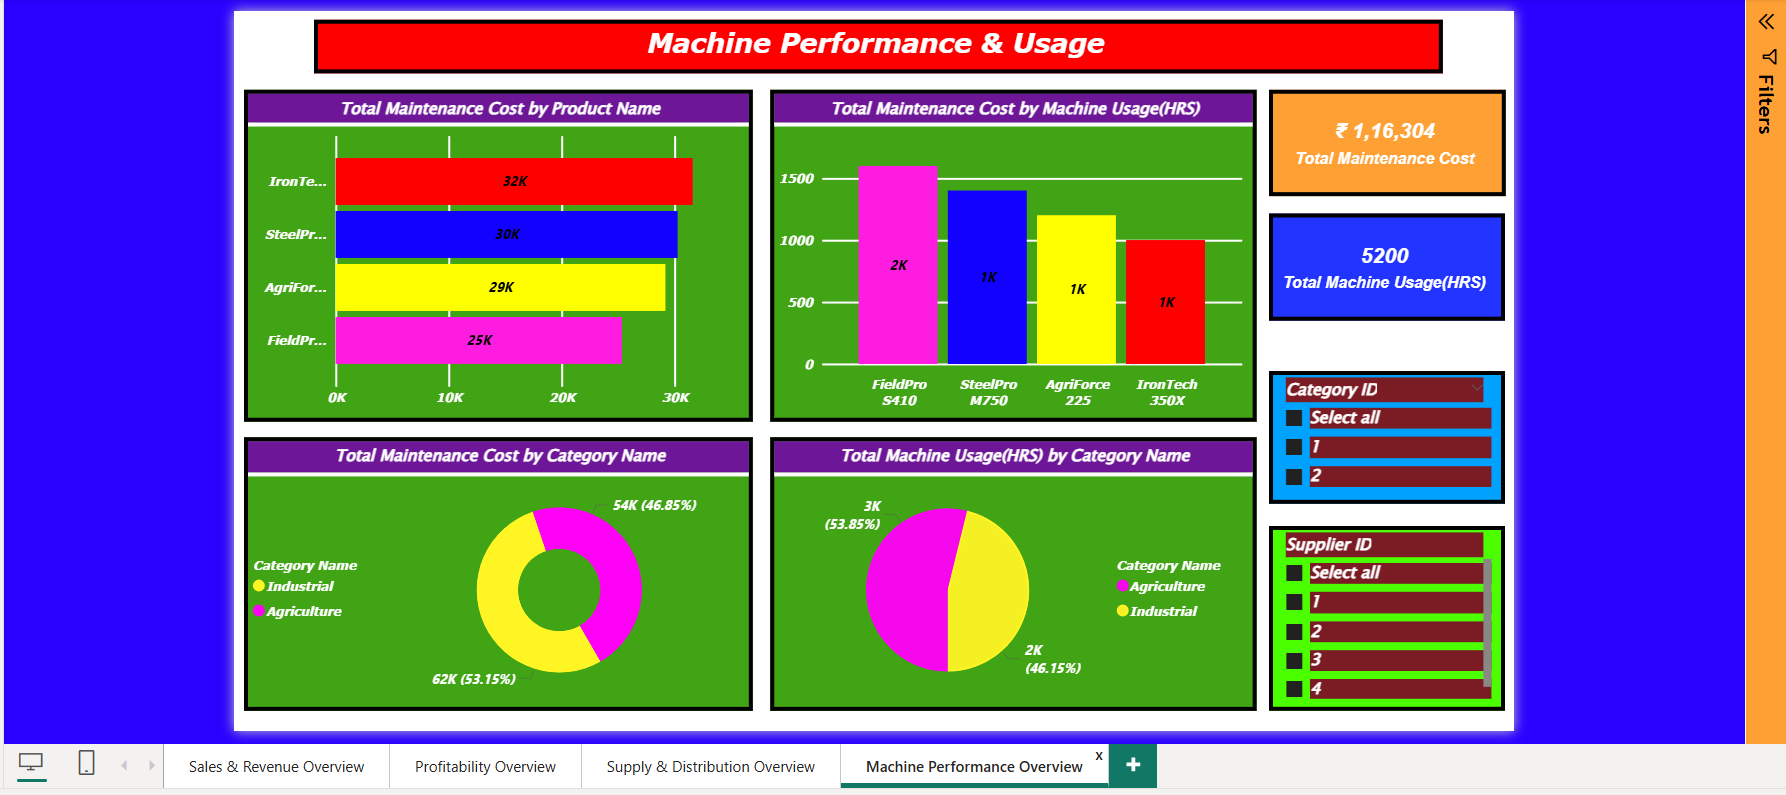

What the dashboard file says about the page in this screenshot:
{"tool":"powerbi","page":{"name":"Machine Performance Overview","canvas":[1280,720],"ordinal":3},"visuals":[{"type":"pieChart","title":"Total Machine Usage(HRS) by Category Name","fields":{"Category":["Category_Metrics.Category Name"],"Y":["Sum(Zone_Overview.Machine Usage(HRS))"]},"box":[536.9,425.9,486.2,273.9],"z":0},{"type":"clusteredColumnChart","title":"Total Maintenance Cost by Machine Usage(HRS)","fields":{"Category":["Inventory_Details.Product Name"],"Y":["Sum(Zone_Overview.Machine Usage(HRS))"]},"box":[536.9,78.4,486.2,331.8],"z":1000},{"type":"card","fields":{"Values":["Sum(Zone_Overview.Machine Usage(HRS))"]},"box":[1035,202.5,236.2,107.5],"z":2000},{"type":"card","fields":{"Values":["Sum(Zone_Overview.Maintenance Cost)"]},"box":[1035.1,78.4,236.5,106.2],"z":3000},{"type":"textbox","box":[80,8.8,1128.8,53.8],"z":6000},{"type":"slicer","fields":{"Values":["Category_Metrics.Category ID"]},"box":[1035,360,236.2,132.5],"z":7000},{"type":"slicer","fields":{"Values":["Suppliers_Profile.Supplier ID"]},"box":[1035,515,236.2,185],"z":8000},{"type":"donutChart","title":"Total Maintenance Cost by Category Name","fields":{"Category":["Category_Metrics.Category Name"],"Y":["Sum(Zone_Overview.Maintenance Cost)"]},"box":[9.7,425.9,509.1,273.9],"z":9000},{"type":"clusteredBarChart","title":"Total Maintenance Cost by Product Name","fields":{"Category":["Inventory_Details.Product Name"],"Y":["Sum(Zone_Overview.Maintenance Cost)"]},"box":[9.7,78.4,509.1,331.8],"z":10000}]}

Visuals, with their boxes on the page's 1280x720 design canvas (x1, y1, x2, y2). These are canvas units, not pixel positions in the 1786x795 screenshot, which may show the page scaled, cropped or inside an application window:
"Total Machine Usage(HRS) by Category Name" pieChart: left=537, top=426, right=1023, bottom=700
"Total Maintenance Cost by Machine Usage(HRS)" clusteredColumnChart: left=537, top=78, right=1023, bottom=410
card - Sum(Zone_Overview.Machine Usage(HRS)): left=1035, top=202, right=1271, bottom=310
card - Sum(Zone_Overview.Maintenance Cost): left=1035, top=78, right=1272, bottom=185
textbox: left=80, top=9, right=1209, bottom=63
slicer - Category_Metrics.Category ID: left=1035, top=360, right=1271, bottom=492
slicer - Suppliers_Profile.Supplier ID: left=1035, top=515, right=1271, bottom=700
"Total Maintenance Cost by Category Name" donutChart: left=10, top=426, right=519, bottom=700
"Total Maintenance Cost by Product Name" clusteredBarChart: left=10, top=78, right=519, bottom=410
